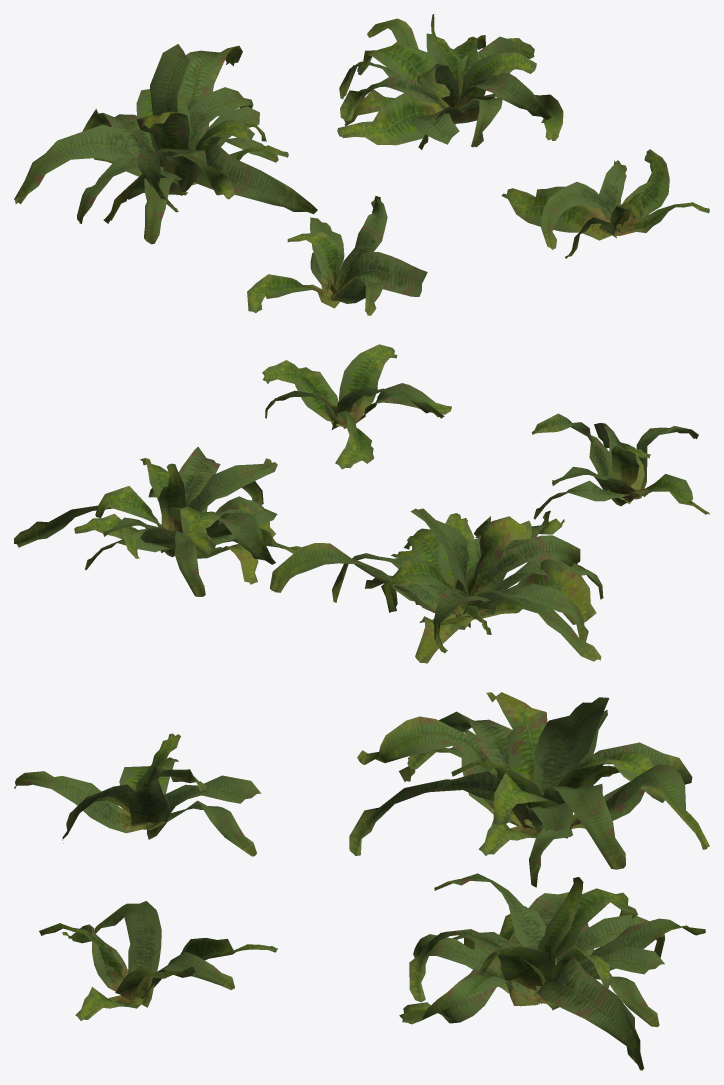
File: fern_02.glb
3 renders of one model, top to bottom at view 1: azimuth 30°, elevation 25°; view 2: azimuth 150°, elevation 25°; view 3: azimuth 270°, elevation 25°, orthographic. The views are drawn at different scales.
Visible parts, largest first — view 1: fern_02_b, fern_02_c, fern_02_d, fern_02_a; view 2: fern_02_b, fern_02_c, fern_02_d, fern_02_a; view 3: fern_02_b, fern_02_c, fern_02_a, fern_02_d.
Boxes of the visible parts, <box> form: fern_02_b: <box>14,44,317,244</box>; fern_02_c: <box>337,14,563,149</box>; fern_02_d: <box>501,149,709,258</box>; fern_02_a: <box>247,196,427,315</box>; fern_02_b: <box>270,508,603,663</box>; fern_02_c: <box>14,447,300,596</box>; fern_02_d: <box>262,344,451,469</box>; fern_02_a: <box>531,413,709,519</box>; fern_02_b: <box>349,692,709,887</box>; fern_02_c: <box>399,873,705,1070</box>; fern_02_a: <box>14,733,261,856</box>; fern_02_d: <box>39,901,277,1020</box>.
Bounding box in the file's own units: 1.97 × 0.4277 × 1.72.
Materials: 1 (1 with a texture image).
